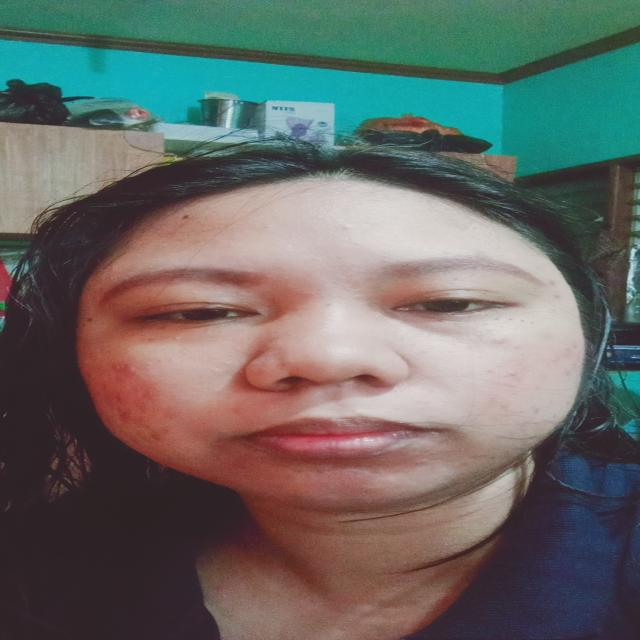Acne: (146, 432, 175, 448), (108, 362, 146, 374), (335, 223, 365, 237), (527, 405, 548, 418), (500, 369, 522, 381), (113, 410, 133, 423), (492, 334, 510, 345), (258, 223, 280, 231), (111, 394, 130, 403), (548, 293, 566, 302), (472, 453, 492, 461), (96, 384, 115, 392), (496, 403, 512, 412), (141, 390, 154, 401), (175, 213, 195, 220), (548, 358, 564, 366), (544, 278, 558, 287), (482, 368, 499, 375), (414, 456, 428, 464), (170, 336, 183, 341)
